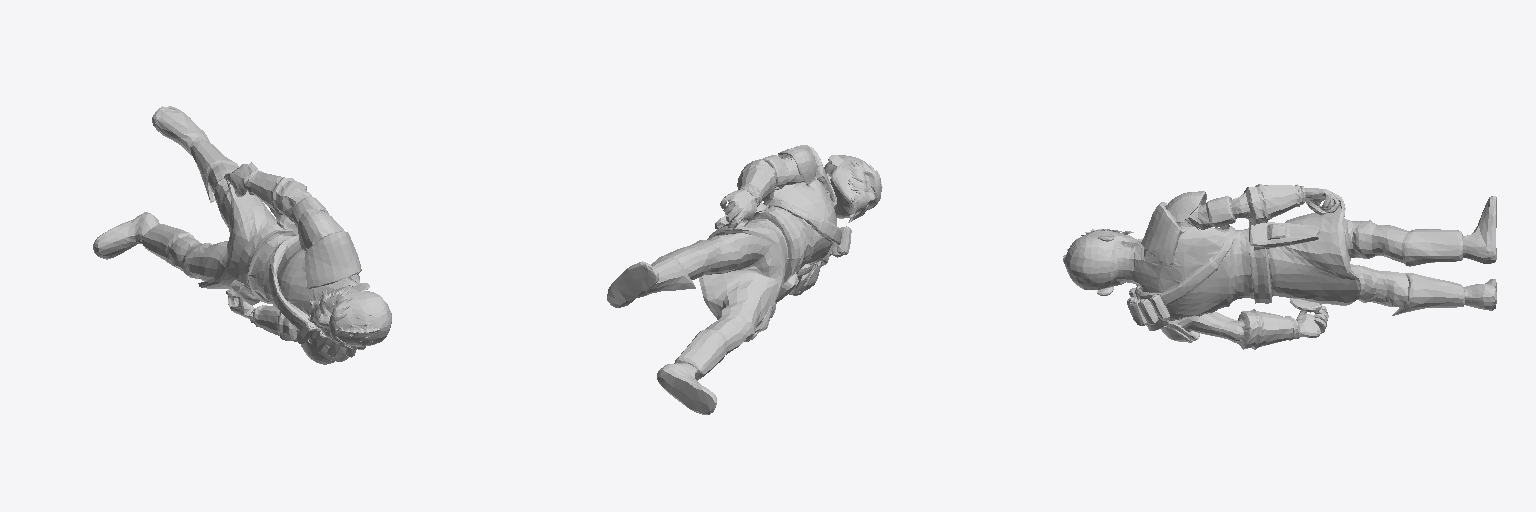
Rendered from nikto.obj.
The picture shows the model from 3 angles: view 1: azimuth 30°, elevation 25°; view 2: azimuth 150°, elevation 25°; view 3: azimuth 270°, elevation 25°; orthographic projection.
Parts seen in each view (by area): view 1: obj_[number redacted]; view 2: obj_[number redacted]; view 3: obj_[number redacted].
Part boxes in pixels (bbox=[...]): obj_[number redacted]: bbox=[93, 106, 391, 364]; obj_[number redacted]: bbox=[607, 145, 882, 414]; obj_[number redacted]: bbox=[1063, 184, 1496, 349].
Bounding box in the file's own units: 11.91 × 16.6 × 40.47.